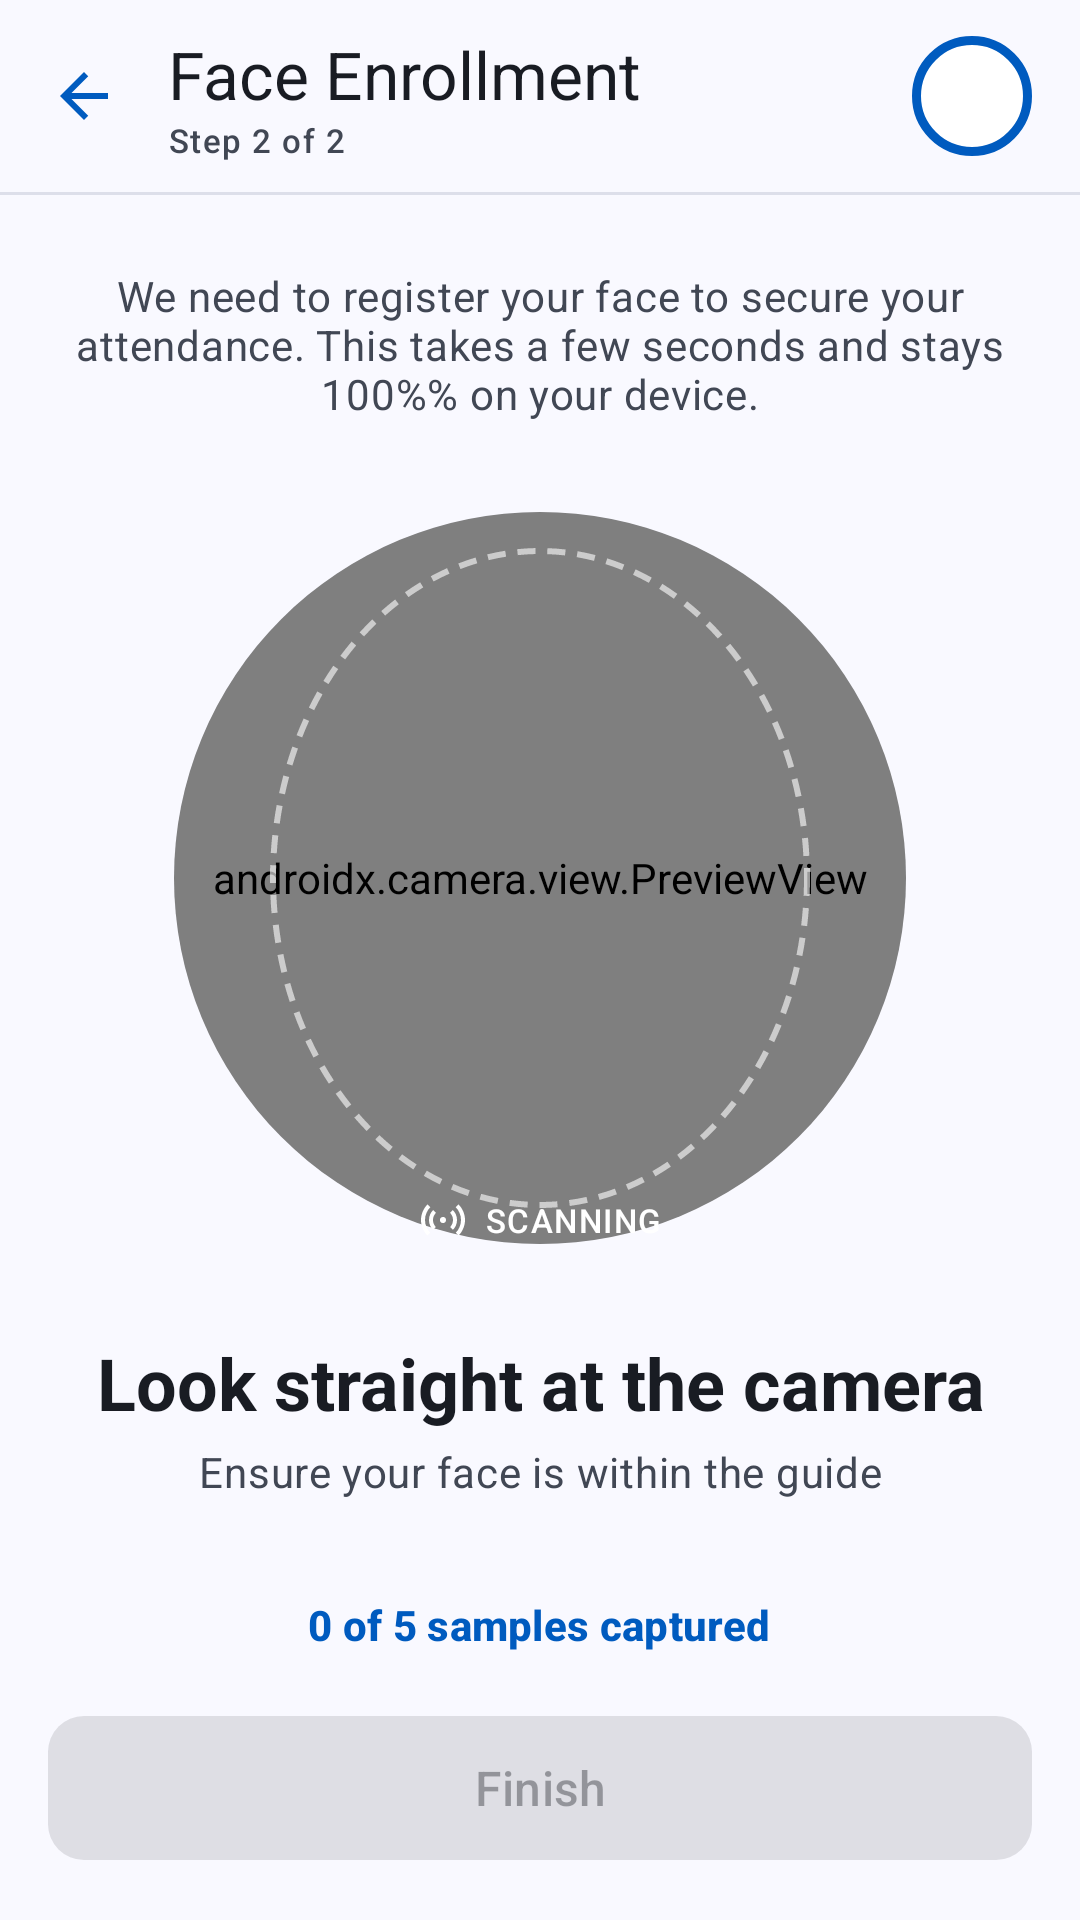

Where to tap for icons on this 1080w x 1920h app screen, as (x,y):
sensors: (443,1220)
